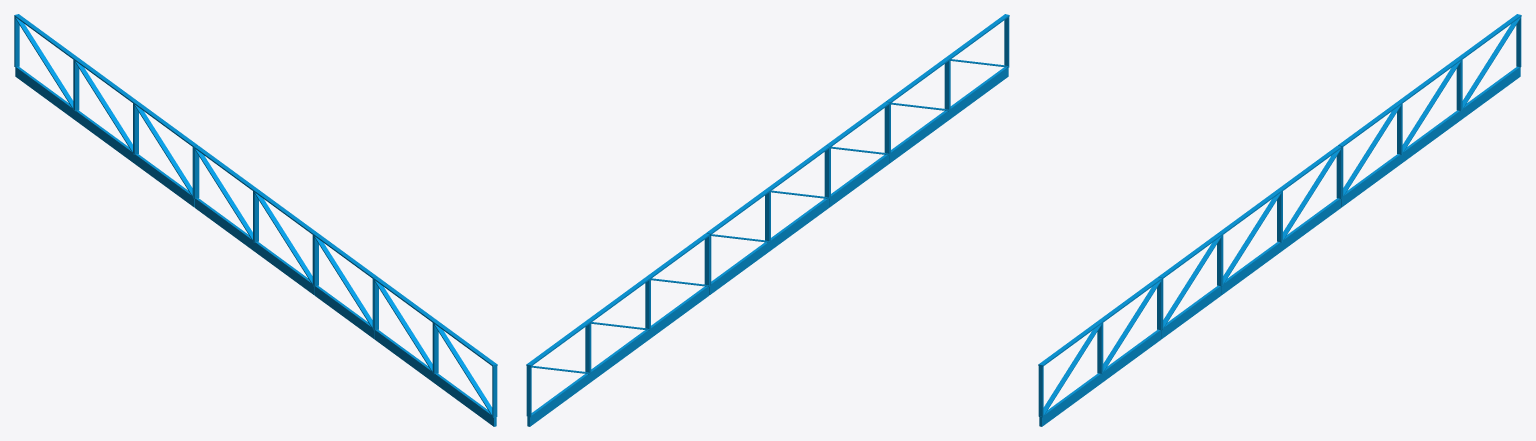
File: Metal_Floor_Rail_x8.fbx
3 views of the same model, side by side, from view 1: azimuth 30°, elevation 25°; view 2: azimuth 150°, elevation 25°; view 3: azimuth 330°, elevation 25° (orthographic).
Parts seen in each view (by area): view 1: Metal_Floor_Rail_x8; view 2: Metal_Floor_Rail_x8; view 3: Metal_Floor_Rail_x8.
Part boxes in pixels (x1=…): Metal_Floor_Rail_x8: x1=14, y1=14, x2=497, y2=426; Metal_Floor_Rail_x8: x1=526, y1=14, x2=1009, y2=426; Metal_Floor_Rail_x8: x1=1038, y1=14, x2=1521, y2=426.
Size of the model in its own units: 6.42 by 85.47 by 1202.
